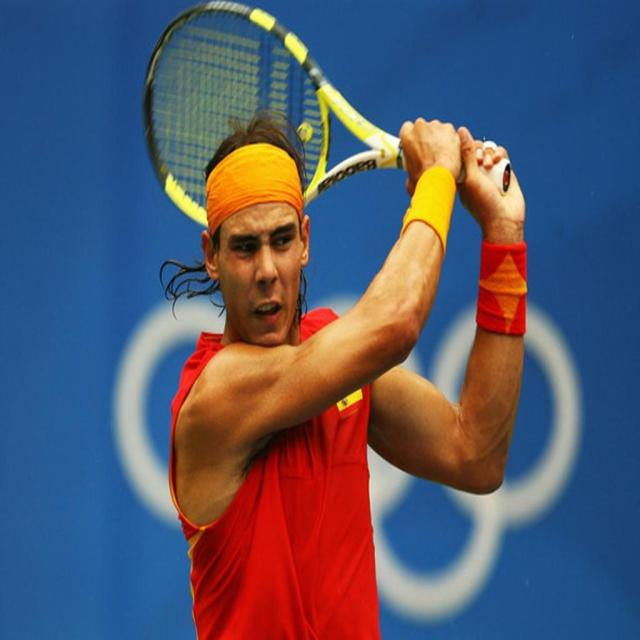Face: (215, 196, 308, 348)
